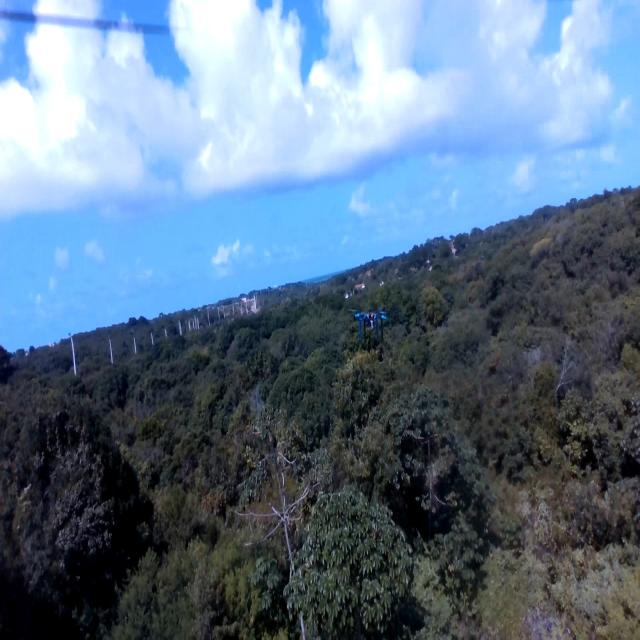-uav-: (349, 295, 388, 351)
